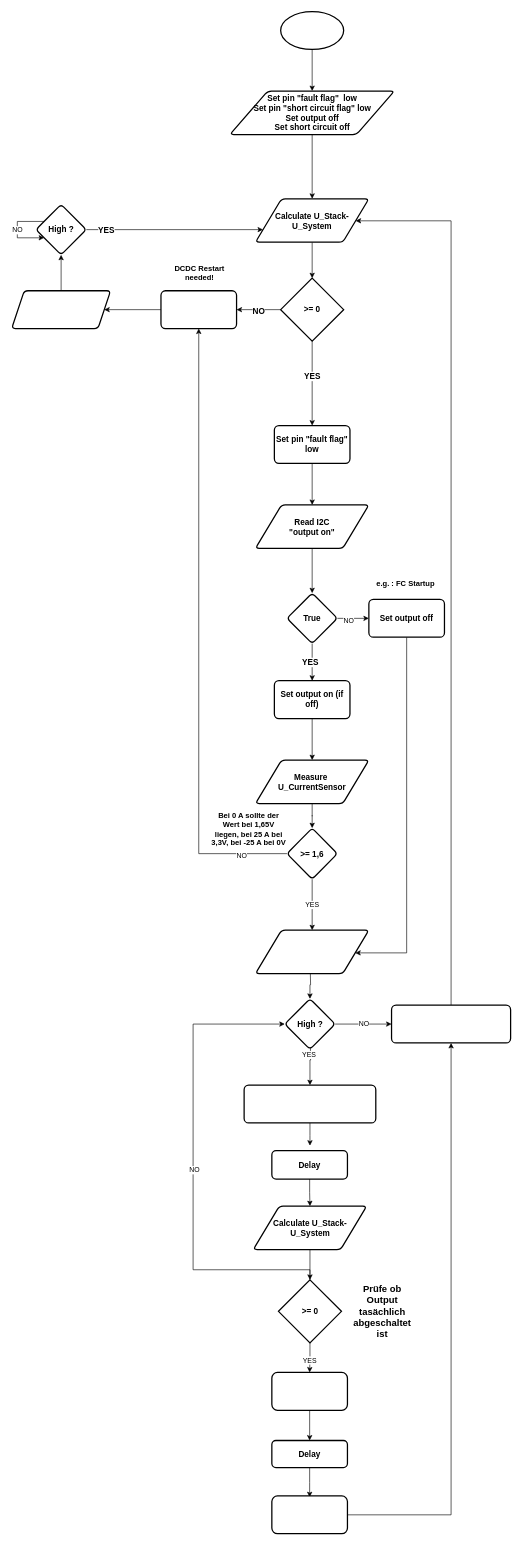
Some shapes in this 522 by 1545 pixel diagram are drawn without their labels. The centre of each missing label's shape, as x and y in pixels:
Output off Fault Flag = True: [198,309]
Read pin "overwrite protections": [61,309]
Read pin "short circuit read" (rising edge): [312,951]
Set output off Set pin "short circuit flag" high: [309,1103]
Set pin"short circuit flag" low: [451,1023]
Set short circuit off: [309,1514]
Set short circuit on: [309,1391]
Start: [312,30]
